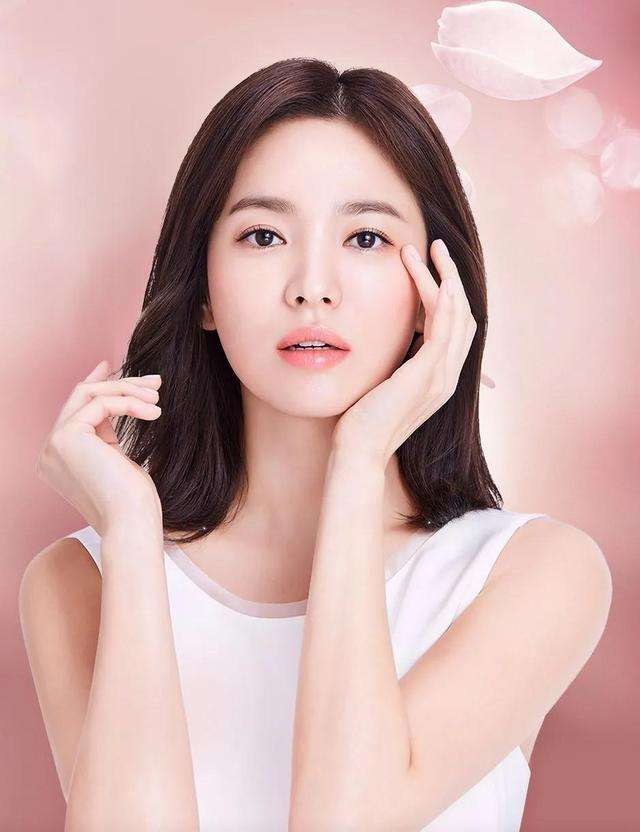person: (69, 97, 507, 673)
